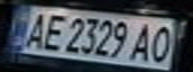2: (63, 13, 87, 55), (97, 16, 118, 57)
3: (78, 15, 100, 56)
9: (109, 18, 133, 61)
A: (127, 20, 160, 63), (18, 10, 51, 51)
E: (36, 11, 69, 52)
O: (145, 22, 178, 64)
